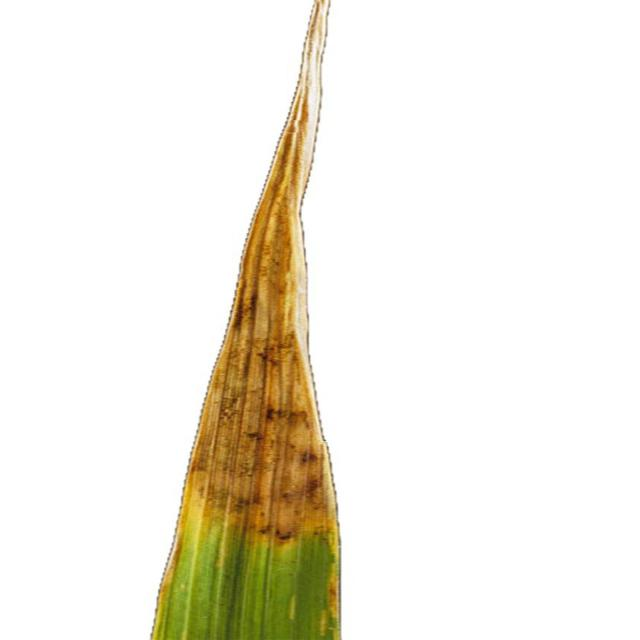Leaf scald: (119, 0, 464, 640)
